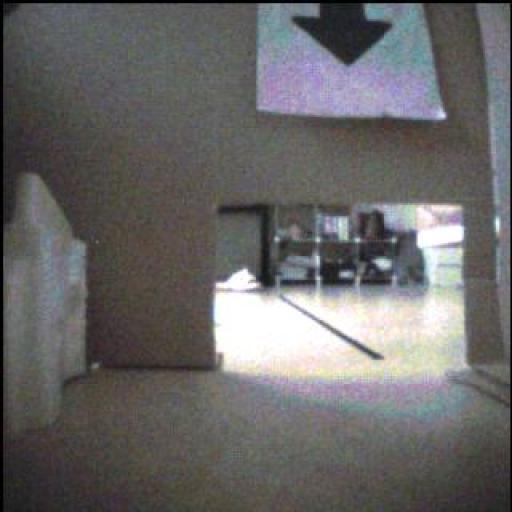arrow: (294, 4, 393, 67)
